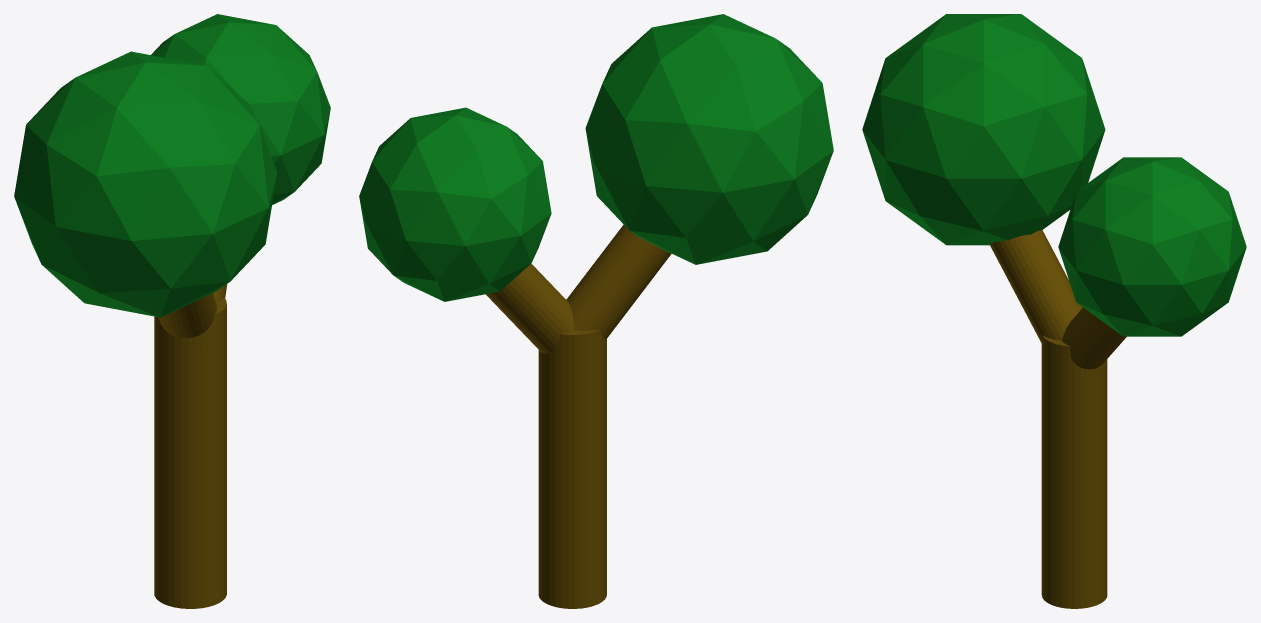
Rendered from tree3.glb.
The picture shows the model from 3 angles, left to right: view 1: azimuth 30°, elevation 25°; view 2: azimuth 150°, elevation 25°; view 3: azimuth 270°, elevation 25°; orthographic projection. The views are drawn at different scales.
Parts seen in each view (by area): view 1: Icosphere, Cylinder, Icosphere.001, Cylinder.002; view 2: Icosphere, Icosphere.001, Cylinder, Cylinder.002, Cylinder.001; view 3: Icosphere, Icosphere.001, Cylinder, Cylinder.002, Cylinder.001.
Boxes of the visible parts, left/top/right/bottom form: Icosphere: left=14, top=51, right=277, bottom=317; Cylinder: left=154, top=297, right=226, bottom=608; Icosphere.001: left=151, top=14, right=330, bottom=204; Cylinder.002: left=158, top=293, right=216, bottom=337; Icosphere: left=585, top=14, right=833, bottom=264; Icosphere.001: left=359, top=107, right=551, bottom=301; Cylinder: left=538, top=329, right=606, bottom=608; Cylinder.002: left=566, top=224, right=671, bottom=339; Cylinder.001: left=486, top=263, right=573, bottom=353; Icosphere: left=862, top=14, right=1105, bottom=245; Icosphere.001: left=1058, top=157, right=1246, bottom=336; Cylinder: left=1041, top=335, right=1107, bottom=608; Cylinder.002: left=990, top=230, right=1082, bottom=342; Cylinder.001: left=1062, top=307, right=1126, bottom=369.
Size of the model in its own units: 3.26 by 4.94 by 3.22.
